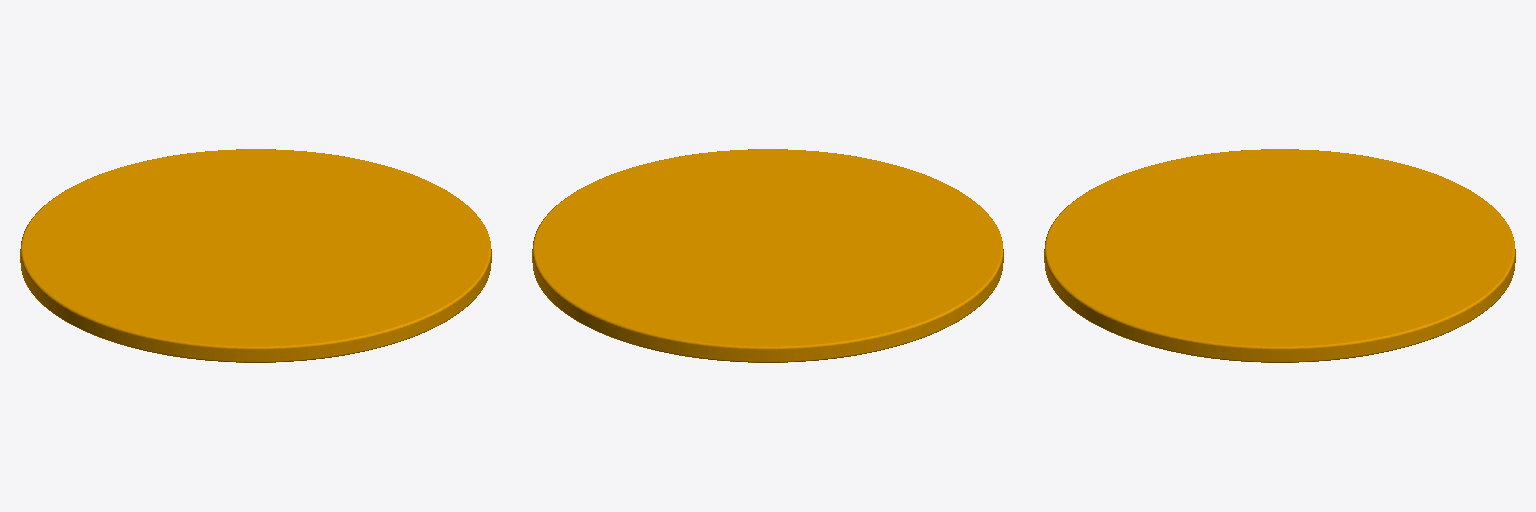
URDF robot description (balance_board):
<?xml version="1.0" ?>
<!-- =================================================================================== -->
<!-- |    This document was autogenerated by xacro from new_board.xacro                | -->
<!-- |    EDITING THIS FILE BY HAND IS NOT RECOMMENDED                                 | -->
<!-- =================================================================================== -->
<robot name="balance_board">
  <link name="board">
    <visual>
      <origin rpy="0.00 0.00 0.00" xyz="0.00 0.00 0.00"/>
      <geometry>
        <mesh filename="urdf/balance_board/board/board.obj"/>
      </geometry>
    </visual>
    <collision>
      <origin rpy="0.00 0.00 0.00" xyz="0.00 0.00 0.0075"/>
      <geometry>
        <cylinder radius="0.1975" length="0.015"/>
      </geometry>
    </collision>
    <inertial>
      <origin rpy="0.00 0.00 0.00" xyz="0.00 0.00 0.0075"/>
      <mass value="0.862920"/>
      <inertia ixx="0.008421" ixy="0.000000" ixz="-0.000000" iyy="0.008421" iyz="-0.000000" izz="0.016810"/>
    </inertial>
  </link>
  <joint name="board_rolloer_joint" type="fixed">
    <parent link="board"/>
    <child link="roller"/>
    <origin rpy="0 0 0" xyz="0.00 0.00 0.0"/>
    <axis xyz="0 0 1"/>
    <limit effort="10.6" lower="-0.52" upper="1.5707963267948966" velocity="3.14"/>
    <dynamics damping="0.1" friction="0.0"/>
    <implicitSpringDamper>True</implicitSpringDamper>
  </joint>
  <transmission name="board_rolloer_joint_tran">
    <type>transmission_interface/SimpleTransmission</type>
    <joint name="board_rolloer_joint">
      <hardwareInterface>hardware_interface/EffortJointInterface</hardwareInterface>
    </joint>
    <actuator name="board_rolloer_joint_motor">
      <hardwareInterface>hardware_interface/EffortJointInterface</hardwareInterface>
      <mechanicalReduction>1</mechanicalReduction>
    </actuator>
  </transmission>
  <link name="roller">
    <visual>
      <origin rpy="0.00 0.00 0.00" xyz="0.00 0.0 0.0"/>
      <geometry>
        <mesh filename="urdf/balance_board/board/board_roller.obj"/>
      </geometry>
    </visual>
    <collision>
      <origin rpy="0.00 0.00 0.00" xyz="0.00 0.0 -0.024"/>
      <geometry>
        <sphere radius="0.039"/>
      </geometry>
    </collision>
    <inertial>
      <origin rpy="0.00 0.00 0.00" xyz="0.00 0.00 -0.025976"/>
      <mass value="0.592680"/>
      <inertia ixx="0.000718" ixy="0.000000" ixz="0.000000" iyy="0.000718" iyz="0.000000" izz="0.001097"/>
    </inertial>
  </link>
</robot>

--- Render facts (derived) ---
Views: 3 orthographic renders of the robot side by side, from view 1: azimuth 30°, elevation 25°; view 2: azimuth 150°, elevation 25°; view 3: azimuth 270°, elevation 25°.
Model balance_board with 2 links and 1 joints (1 fixed), rooted at board, posed every joint at zero.
Visible links, largest first — view 1: board; view 2: board; view 3: board.
Boxes of the visible links, bbox=[...] form: board: bbox=[20, 149, 491, 362]; board: bbox=[532, 149, 1003, 362]; board: bbox=[1044, 149, 1515, 362].
Bounding box of the posed robot: 0.395 × 0.395 × 0.078 m (x, y, z).
2 mesh visuals loaded from 2 distinct referenced files (2 OBJ).
